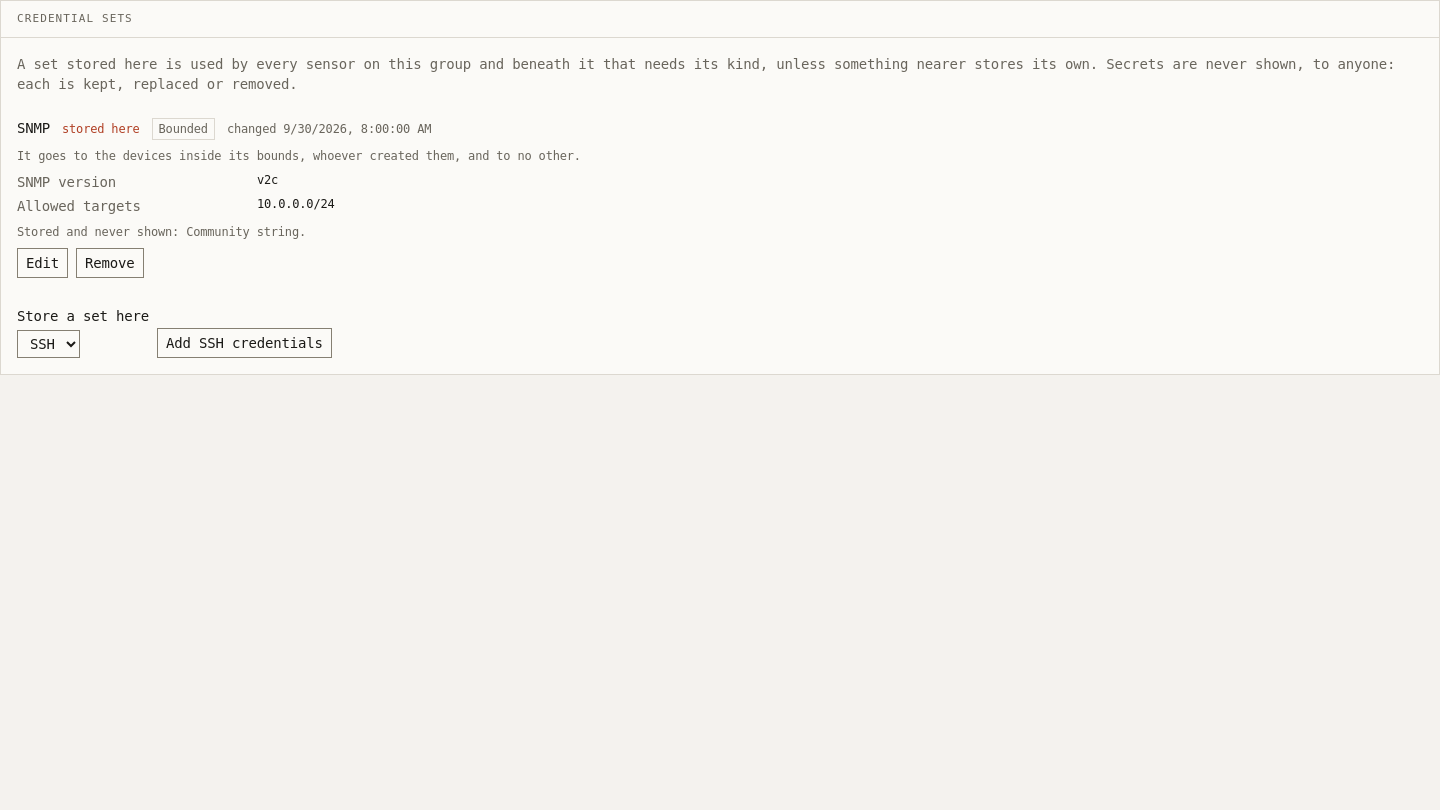
the credentials tab › a secret in the form › has nothing to save until something changes
Check: the heading "Credential sets" is shown, box [17,11,133,27]
Click the button named "Edit SNMP credentials" at [42, 263], box [17,248,68,278]
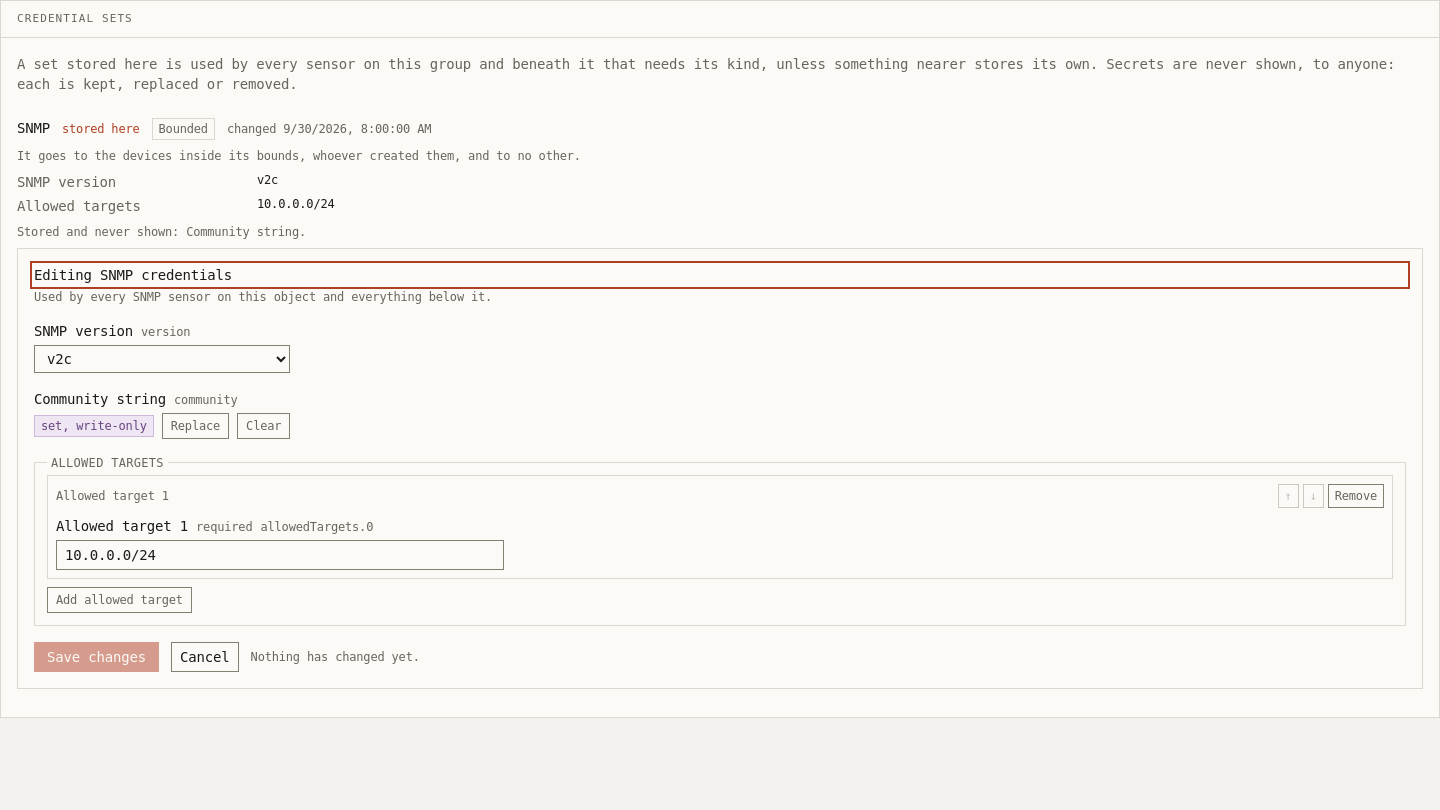
Check: the button "Save changes" is disabled, box [34,642,159,672]
Check: the text "Nothing has changed yet." is shown, box [251,649,420,665]
